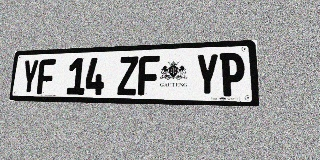1: (66, 58, 87, 95)
4: (85, 57, 105, 95)
F: (138, 55, 160, 96), (37, 59, 56, 94)
P: (220, 52, 245, 97)
Y: (195, 53, 219, 96), (20, 59, 39, 94)
Z: (117, 56, 138, 95)
